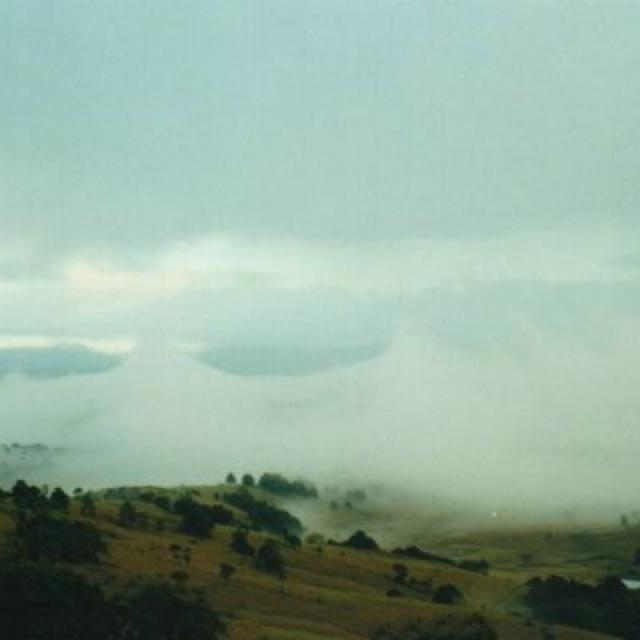Ns: (1, 135, 640, 433)
